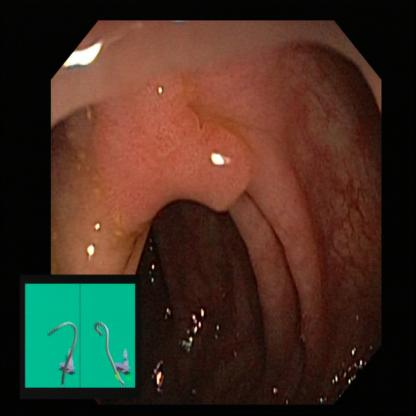Labels: (20, 274, 138, 392)
Polyps: (176, 126, 245, 206)
